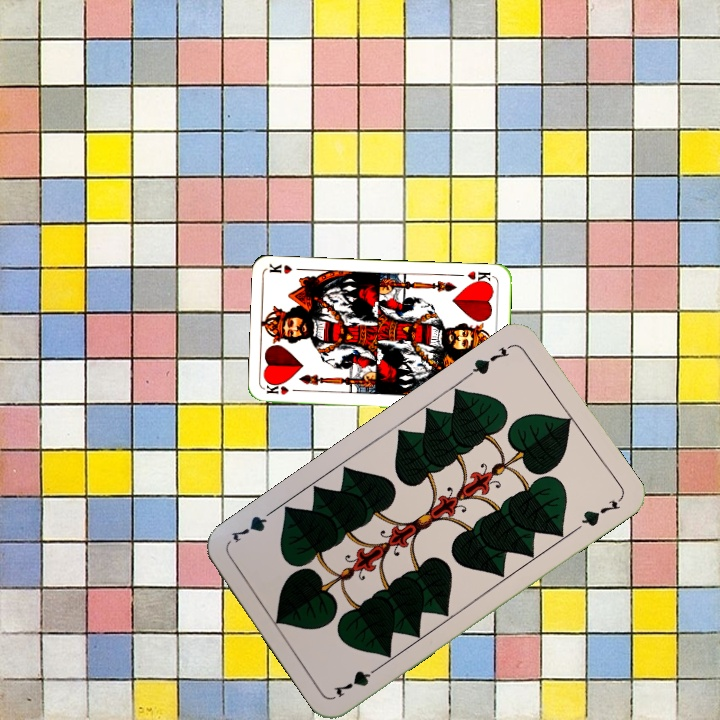G7: (330, 661, 385, 700), (463, 340, 516, 379)
HK: (262, 379, 303, 397), (464, 267, 496, 286)
